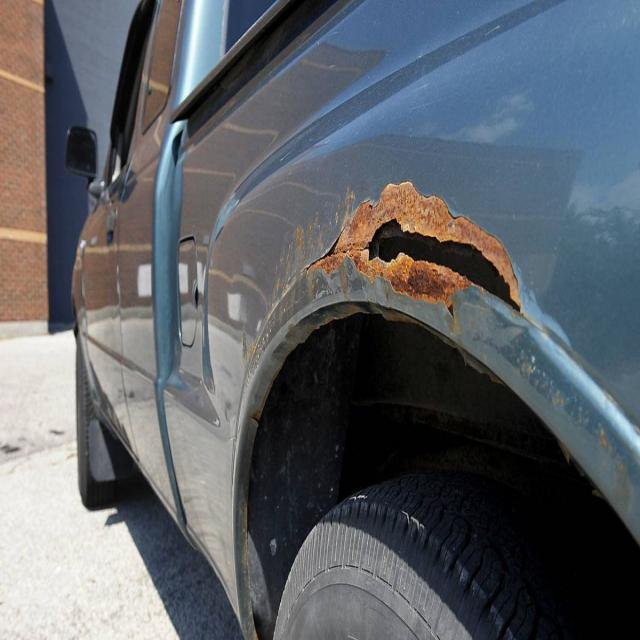Crevice Corrosion: (309, 182, 519, 310)
